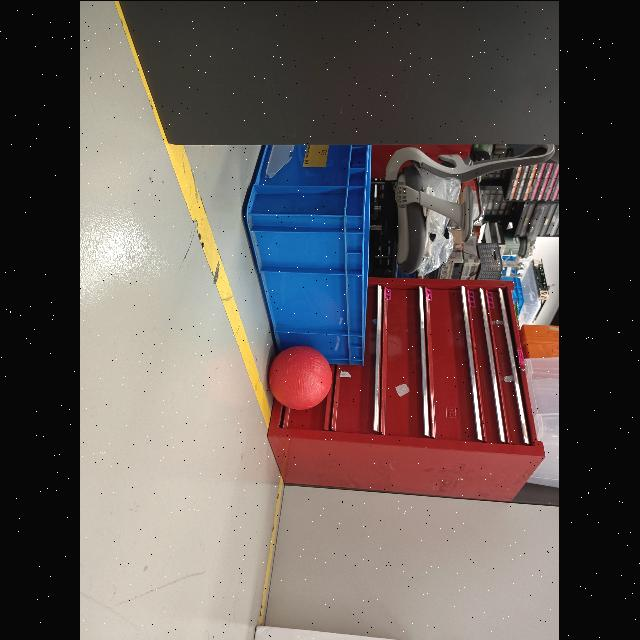R: (266, 340, 332, 416)
